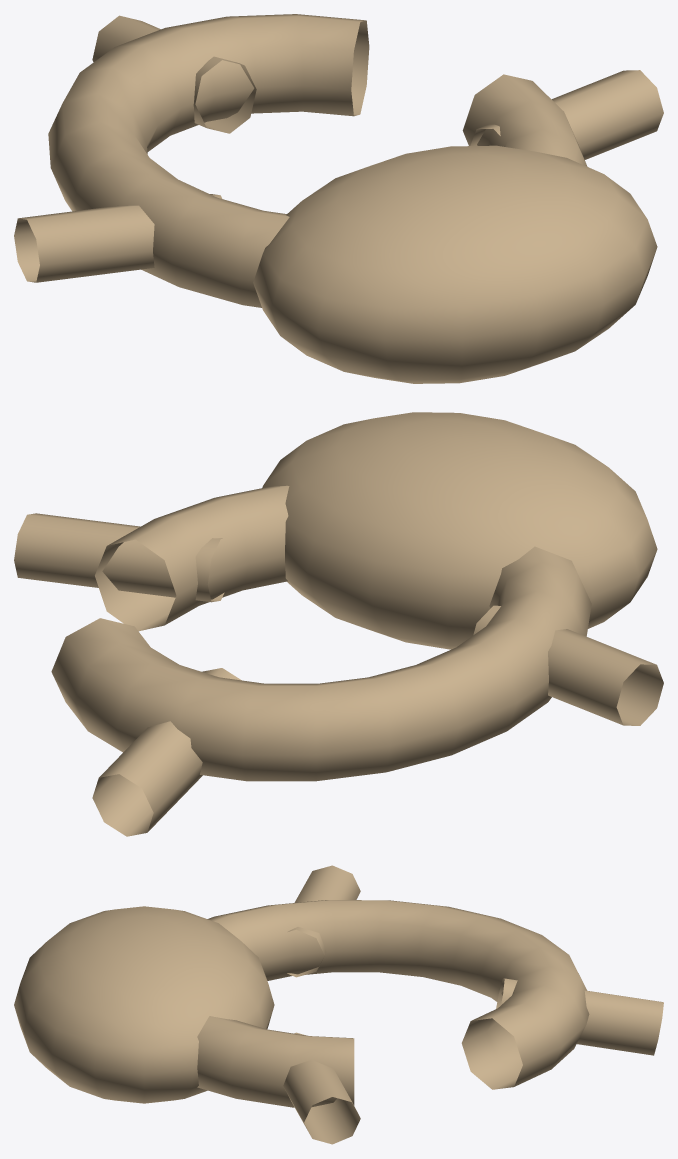
The picture shows the model from 3 angles, top to bottom: view 1: azimuth 30°, elevation 25°; view 2: azimuth 150°, elevation 25°; view 3: azimuth 270°, elevation 25°; orthographic projection. The views are drawn at different scales.
Visible parts, largest first — view 1: c3:centrum, c3:neural-arch, c3:transverse--1, c3:transverse-1, c3:spinous-process; view 2: c3:neural-arch, c3:centrum, c3:transverse-1, c3:spinous-process, c3:transverse--1; view 3: c3:neural-arch, c3:centrum, c3:spinous-process, c3:transverse-1, c3:transverse--1.
Boxes of the visible parts, <box> form: c3:centrum: <box>253,145,657,383</box>; c3:neural-arch: <box>48,14,587,307</box>; c3:transverse--1: <box>14,194,222,282</box>; c3:transverse-1: <box>470,70,663,159</box>; c3:spinous-process: <box>92,15,256,133</box>; c3:neural-arch: <box>51,485,591,781</box>; c3:centrum: <box>262,412,657,649</box>; c3:transverse-1: <box>14,513,224,602</box>; c3:spinous-process: <box>92,668,241,836</box>; c3:transverse--1: <box>473,605,663,725</box>; c3:neural-arch: <box>197,900,589,1107</box>; c3:centrum: <box>14,906,274,1103</box>; c3:spinous-process: <box>496,978,663,1055</box>; c3:transverse-1: <box>283,1032,360,1144</box>; c3:transverse--1: <box>287,865,360,977</box>.
Bounding box in the file's own units: 0.195 × 0.0553 × 0.2275.
